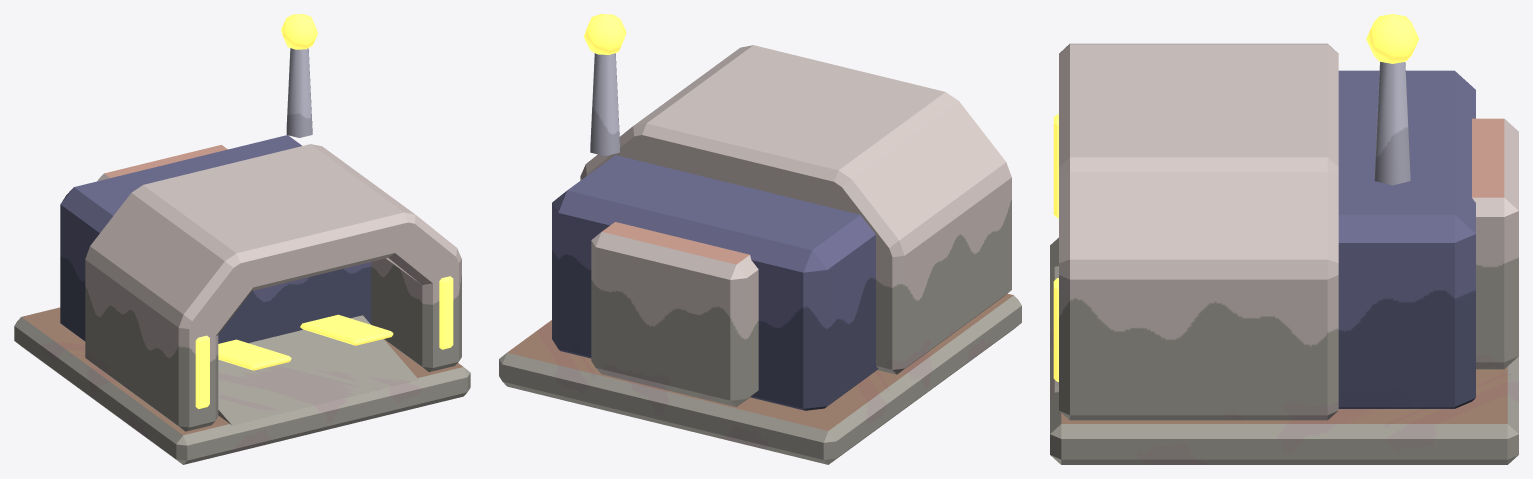
File: R4X_GroundDroneDeployer_LOD1.glb
3 renders of one model, left to right at view 1: azimuth 30°, elevation 25°; view 2: azimuth 150°, elevation 25°; view 3: azimuth 270°, elevation 25°, orthographic. The views are drawn at different scales.
Parts seen in each view (by area): view 1: R4X_GroundDroneDeployer_LOD1; view 2: R4X_GroundDroneDeployer_LOD1; view 3: R4X_GroundDroneDeployer_LOD1.
Boxes of the visible parts, bbox=[...] form: R4X_GroundDroneDeployer_LOD1: bbox=[14, 14, 470, 464]; R4X_GroundDroneDeployer_LOD1: bbox=[499, 14, 1021, 464]; R4X_GroundDroneDeployer_LOD1: bbox=[1050, 14, 1518, 464].
Size of the model in its own units: 0.52 by 0.5145 by 0.52.
Materials: 5 (4 with a texture image).
